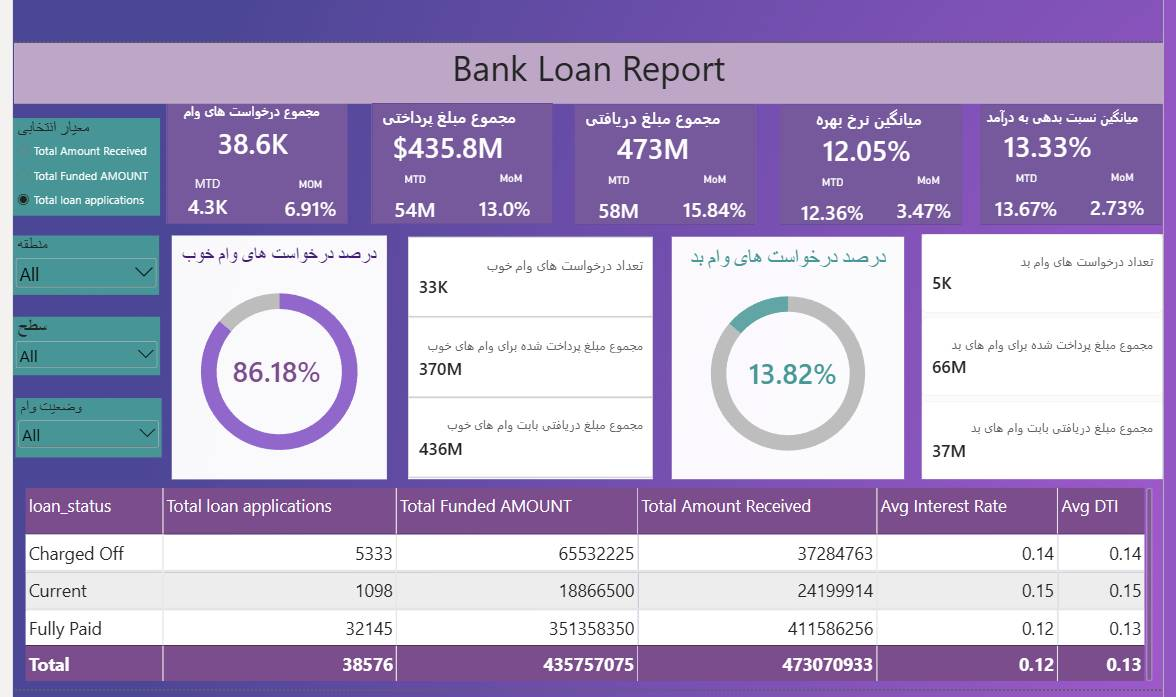

Layout of this report page (visuals, bound fields, positions):
{"tool":"powerbi","page":{"name":"Page 1","canvas":[1920,1080],"ordinal":0},"visuals":[{"type":"shape","box":[256.8,100.9,302.6,201.7],"z":0},{"type":"cardVisual","title":"MTD","fields":{"Data":["financial_loan.MTD Avg DTI"]},"box":[1618.6,216.3,144.9,82.5],"z":0,"group":"g5"},{"type":"cardVisual","title":"MTD","fields":{"Data":["financial_loan.MTD Funded Amount"]},"box":[599.8,218.2,144.9,82.5],"z":0,"group":"g2"},{"type":"cardVisual","title":"MTD","fields":{"Data":["financial_loan.MTD Amount Received"]},"box":[939.1,220,144.9,82.5],"z":0,"group":"g3"},{"type":"cardVisual","fields":{"Data":["financial_loan.MTD Loan Application"]},"box":[258.6,221.8,132.1,73.4],"z":0,"group":"g1"},{"type":"cardVisual","title":"MTD","fields":{"Data":["financial_loan.MTD Avg Int Rate"]},"box":[1296.8,221.8,144.9,82.5],"z":0,"group":"g4"},{"type":"shape","box":[1.8,0,1918.6,100.9],"z":1000},{"type":"cardVisual","title":"MoM","fields":{"Data":["financial_loan.MoM DTI"]},"box":[1780.4,213,139.4,82.5],"z":1000,"group":"g5"},{"type":"cardVisual","title":"MoM","fields":{"Data":["financial_loan.MoM Funded Amount"]},"box":[761.6,214.9,139.4,82.5],"z":1000,"group":"g2"},{"type":"cardVisual","title":"MoM","fields":{"Data":["financial_loan.MoM Amount Received"]},"box":[1100.9,216.7,139.4,82.5],"z":1000,"group":"g3"},{"type":"cardVisual","title":"MoM","fields":{"Data":["financial_loan.MoM Avg Interest Rate"]},"box":[1458.6,218.5,139.4,82.5],"z":1000,"group":"g4"},{"type":"cardVisual","title":"MOM","fields":{"Data":["financial_loan.MoM Loan Application"]},"box":[435.4,225.5,121.1,64.2],"z":1000,"group":"g1"},{"type":"textbox","box":[1.8,0,1918.6,100.9],"z":2000},{"type":"cardVisual","fields":{"Data":["financial_loan.Total loan applications"]},"box":[326,134,152.2,64.2],"z":2000,"group":"g1"},{"type":"cardVisual","fields":{"Data":["financial_loan.Avg DTI"]},"box":[1637.2,139.6,221.9,62.4],"z":2000,"group":"g5"},{"type":"cardVisual","fields":{"Data":["financial_loan.Total Funded AMOUNT"]},"box":[618.4,141.5,221.9,62.4],"z":2000,"group":"g2"},{"type":"cardVisual","fields":{"Data":["financial_loan.Total Amount Received"]},"box":[957.7,143.3,221.9,62.4],"z":2000,"group":"g3"},{"type":"cardVisual","fields":{"Data":["financial_loan.Avg Interest Rate"]},"box":[1315.4,145.1,221.9,62.4],"z":2000,"group":"g4"},{"type":"cardVisual","fields":{"Data":["financial_loan.Good Loan %"]},"box":[350.3,491.6,187.1,62.4],"z":2000},{"type":"group","id":"g1","title":"Group 1","box":[258.6,99,297.8,196.2],"z":3000},{"type":"textbox","box":[264.6,99,273.4,41.7],"z":3000,"group":"g1"},{"type":"textbox","box":[1619.5,102.7,273.4,41.7],"z":3000,"group":"g5"},{"type":"textbox","box":[600.7,104.6,273.4,41.7],"z":3000,"group":"g2"},{"type":"textbox","box":[940,106.4,273.4,41.7],"z":3000,"group":"g3"},{"type":"textbox","box":[1297.7,108.2,273.4,41.7],"z":3000,"group":"g4"},{"type":"shape","box":[598,100.9,302.6,201.7],"z":4000},{"type":"shape","box":[937.3,102.7,302.6,201.7],"z":5000},{"type":"shape","box":[1282.1,102.7,302.6,201.7],"z":6000},{"type":"shape","box":[1616,102,302.6,201.7],"z":7000},{"type":"group","id":"g2","title":"Group 1","box":[599.8,104.6,300.8,196.3],"z":8000},{"type":"group","id":"g3","title":"Group 1","box":[939.1,106.4,300.8,196.3],"z":9000},{"type":"group","id":"g4","title":"Group 1","box":[1296.8,108.2,301.2,196.2],"z":10000},{"type":"group","id":"g5","title":"Group 1","box":[1618.6,102.7,301.2,196.2],"z":11000},{"type":"donutChart","title":"درصد درخواست های وام  خوب","fields":{"Category":["financial_loan.Good vs Bad Loan"],"Y":["financial_loan.Total loan applications"]},"box":[265,321.4,359,407],"z":12000},{"type":"cardVisual","fields":{"Data":["financial_loan.Good Loan Applications","financial_loan.Good Loan Funded AMOUNT","financial_loan.Good Loan Reviced Amount"]},"box":[659.5,323.5,409,404.9],"z":13000},{"type":"cardVisual","fields":{"Data":["financial_loan.Bad Loan Applications","financial_loan.Bad Loan Funded AMOUNT","financial_loan.Bad Loan Reviced Amount"]},"box":[1517.2,319.3,402.8,409],"z":14000},{"type":"donutChart","title":"درصد درخواست های وام  بد","fields":{"Category":["financial_loan.Good vs Bad Loan"],"Y":["financial_loan.Total loan applications"]},"box":[1099.8,323.5,388.2,404.9],"z":15000},{"type":"tableEx","fields":{"Values":["financial_loan.loan_status","financial_loan.Total loan applications","financial_loan.Total Funded AMOUNT","financial_loan.Total Amount Received","financial_loan.Avg Interest Rate","financial_loan.Avg DTI"]},"box":[4.2,728.3,1913.7,352.7],"z":16000},{"type":"slicer","fields":{"Values":["Parameter.Parameter"]},"box":[0,124.7,245.8,163.2],"z":17000},{"type":"slicer","fields":{"Values":["financial_loan.Good vs Bad Loan"]},"box":[4.2,592.7,244,99],"z":18000},{"type":"slicer","fields":{"Values":["financial_loan.grade"]},"box":[0,457,245.8,97.2],"z":19000},{"type":"slicer","fields":{"Values":["financial_loan.address_state"]},"box":[0,321,244,99],"z":20000},{"type":"cardVisual","fields":{"Data":["financial_loan.Good Loan %"]},"box":[350.6,515.5,187.1,62.4],"z":20002},{"type":"cardVisual","fields":{"Data":["financial_loan.Bad Loan %"]},"box":[1212.5,521.7,204.5,56.3],"z":20003}]}

Visuals, with their boxes on the page's 1920x1080 design canvas (x1, y1, x2, y2). These are canvas units, not pixel positions in the 1176x697 screenshot, which may show the page scaled, cropped or inside an application window:
shape: [257,101,559,303]
"MTD" cardVisual: [1619,216,1764,299]
"MTD" cardVisual: [600,218,745,301]
"MTD" cardVisual: [939,220,1084,302]
cardVisual - financial_loan.MTD Loan Application: [259,222,391,295]
"MTD" cardVisual: [1297,222,1442,304]
shape: [2,0,1920,101]
"MoM" cardVisual: [1780,213,1920,296]
"MoM" cardVisual: [762,215,901,297]
"MoM" cardVisual: [1101,217,1240,299]
"MoM" cardVisual: [1459,218,1598,301]
"MOM" cardVisual: [435,226,556,290]
textbox: [2,0,1920,101]
cardVisual - financial_loan.Total loan applications: [326,134,478,198]
cardVisual - financial_loan.Avg DTI: [1637,140,1859,202]
cardVisual - financial_loan.Total Funded AMOUNT: [618,142,840,204]
cardVisual - financial_loan.Total Amount Received: [958,143,1180,206]
cardVisual - financial_loan.Avg Interest Rate: [1315,145,1537,208]
cardVisual - financial_loan.Good Loan %: [350,492,537,554]
"Group 1" group: [259,99,556,295]
textbox: [265,99,538,141]
textbox: [1620,103,1893,144]
textbox: [601,105,874,146]
textbox: [940,106,1213,148]
textbox: [1298,108,1571,150]
shape: [598,101,901,303]
shape: [937,103,1240,304]
shape: [1282,103,1585,304]
shape: [1616,102,1919,304]
"Group 1" group: [600,105,901,301]
"Group 1" group: [939,106,1240,303]
"Group 1" group: [1297,108,1598,304]
"Group 1" group: [1619,103,1920,299]
"درصد درخواست های وام  خوب" donutChart: [265,321,624,728]
cardVisual - financial_loan.Good Loan Applications x financial_loan.Good Loan Funded AMOUNT: [660,324,1068,728]
cardVisual - financial_loan.Bad Loan Applications x financial_loan.Bad Loan Funded AMOUNT: [1517,319,1920,728]
"درصد درخواست های وام  بد" donutChart: [1100,324,1488,728]
tableEx - financial_loan.loan_status x financial_loan.Total loan applications: [4,728,1918,1081]
slicer - Parameter.Parameter: [0,125,246,288]
slicer - financial_loan.Good vs Bad Loan: [4,593,248,692]
slicer - financial_loan.grade: [0,457,246,554]
slicer - financial_loan.address_state: [0,321,244,420]
cardVisual - financial_loan.Good Loan %: [351,516,538,578]
cardVisual - financial_loan.Bad Loan %: [1212,522,1417,578]
